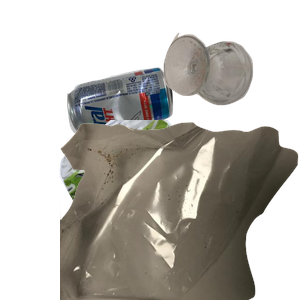glass: (161, 30, 300, 128)
metal: (65, 65, 231, 192)
plastic: (57, 120, 293, 300)
trash: (60, 120, 300, 300)
